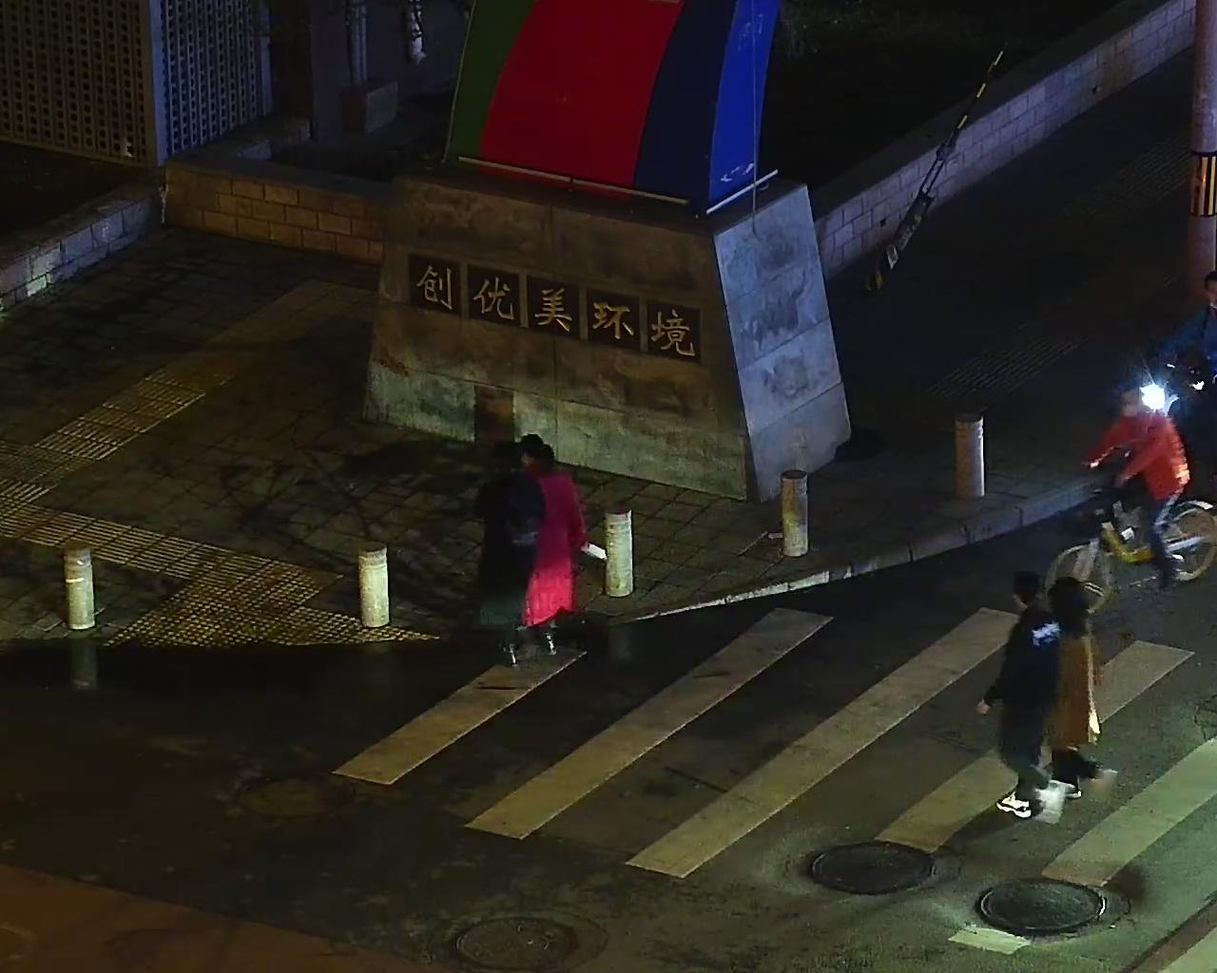person: (966, 571, 1049, 812), (1026, 582, 1109, 797), (1088, 385, 1166, 595), (472, 445, 534, 670), (513, 431, 570, 658), (1127, 280, 1217, 383)
